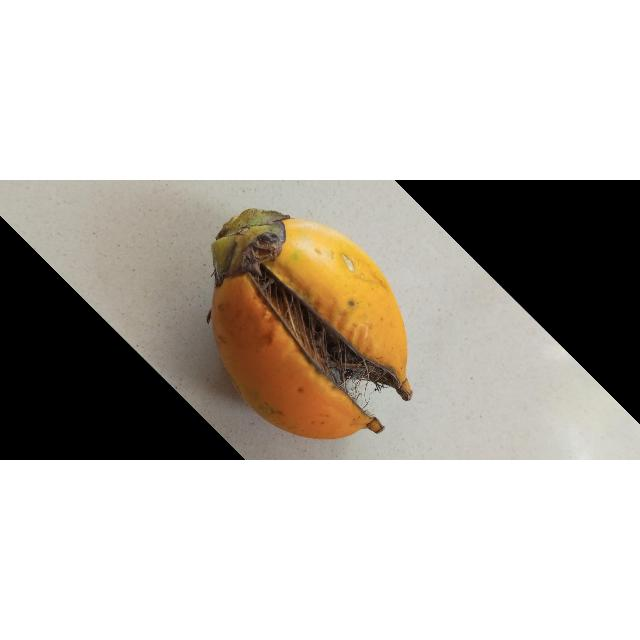damaged: (208, 209, 413, 442)
